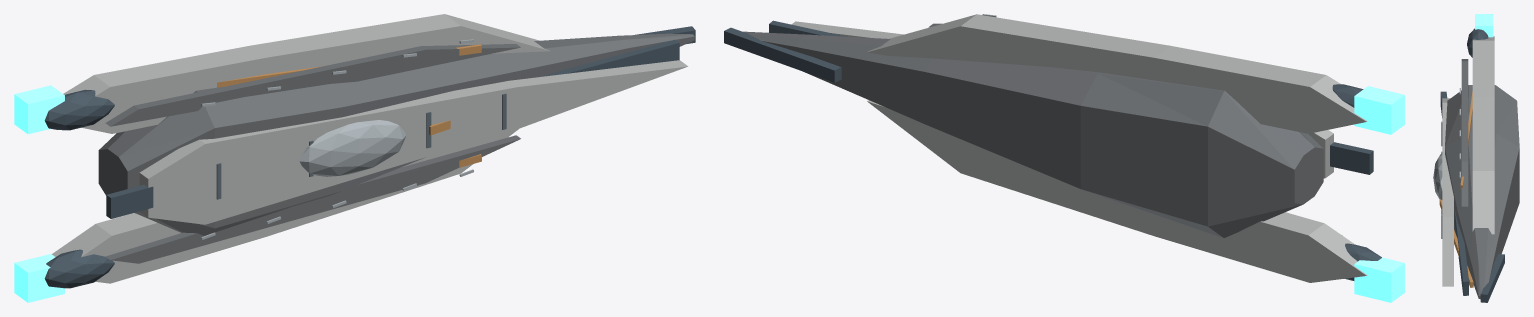
File: cerberus-black-dread.glb
3 views of the same model, side by side, from view 1: azimuth 30°, elevation 25°; view 2: azimuth 150°, elevation 25°; view 3: azimuth 270°, elevation 25° (orthographic). The views are drawn at different scales.
Visible parts, largest first — view 1: Hull and platework, Engines and emitters; view 2: Hull and platework, Engines and emitters; view 3: Hull and platework, Engines and emitters.
Part boxes in pixels (bbox=[...]): Hull and platework: bbox=[44, 14, 695, 288]; Engines and emitters: bbox=[14, 85, 64, 302]; Hull and platework: bbox=[724, 14, 1381, 282]; Engines and emitters: bbox=[1354, 86, 1404, 302]; Hull and platework: bbox=[1433, 28, 1519, 302]; Engines and emitters: bbox=[1475, 14, 1493, 37].
Size of the model in its own units: 4.01 by 1.13 by 0.67.
